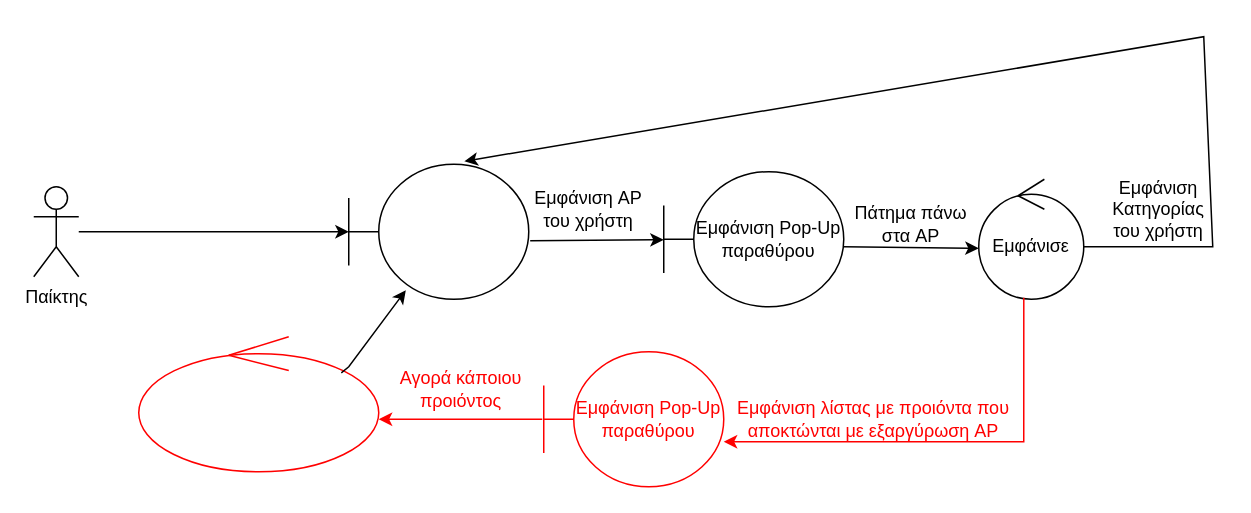
Image size: 1251x513. Some labels were removed from this diagram. The centre of each missing label's shape, as x and y in pixels:
Αφαίρεσε την αξία σε AP του προιόντος από τα συνολικά AP του χρήστη: point 258,403
Σελίδα Home: point 438,231
